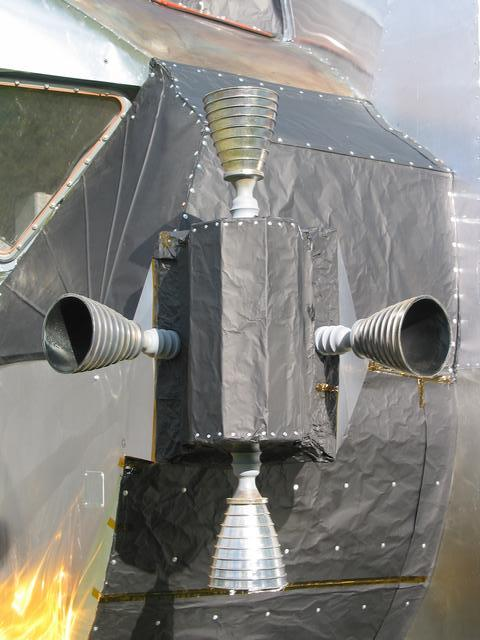thruster: (205, 447, 290, 599), (318, 294, 455, 380), (41, 294, 180, 375), (200, 83, 282, 218)
